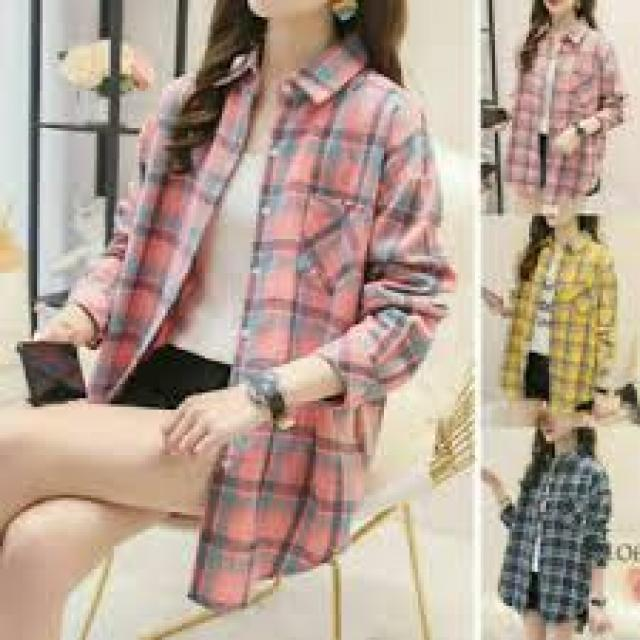plaid: (104, 51, 457, 592), (503, 25, 625, 199), (508, 238, 620, 404), (504, 459, 612, 617)
